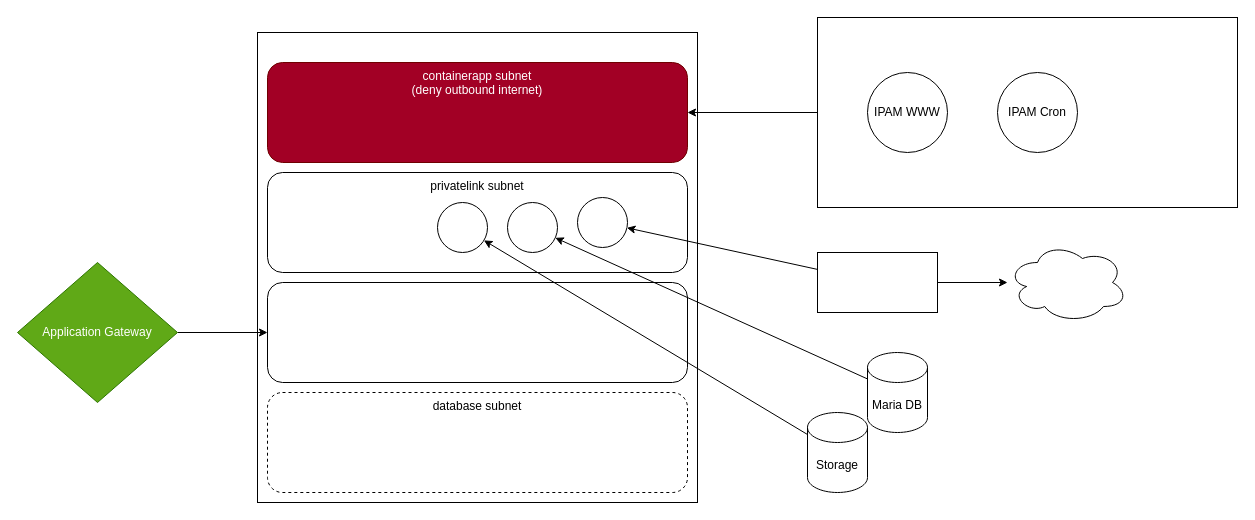
Some shapes in this 1255 by 520 pixel diagram are drawn without their labels. The box of each missing label's shape, as (x1, y1, x2, y2) in pixels:
application gateway subnet: (266, 282, 688, 382)
Container App Environment: (816, 16, 1238, 208)
Container Registry: (816, 252, 938, 312)
VNET: (256, 32, 698, 502)
